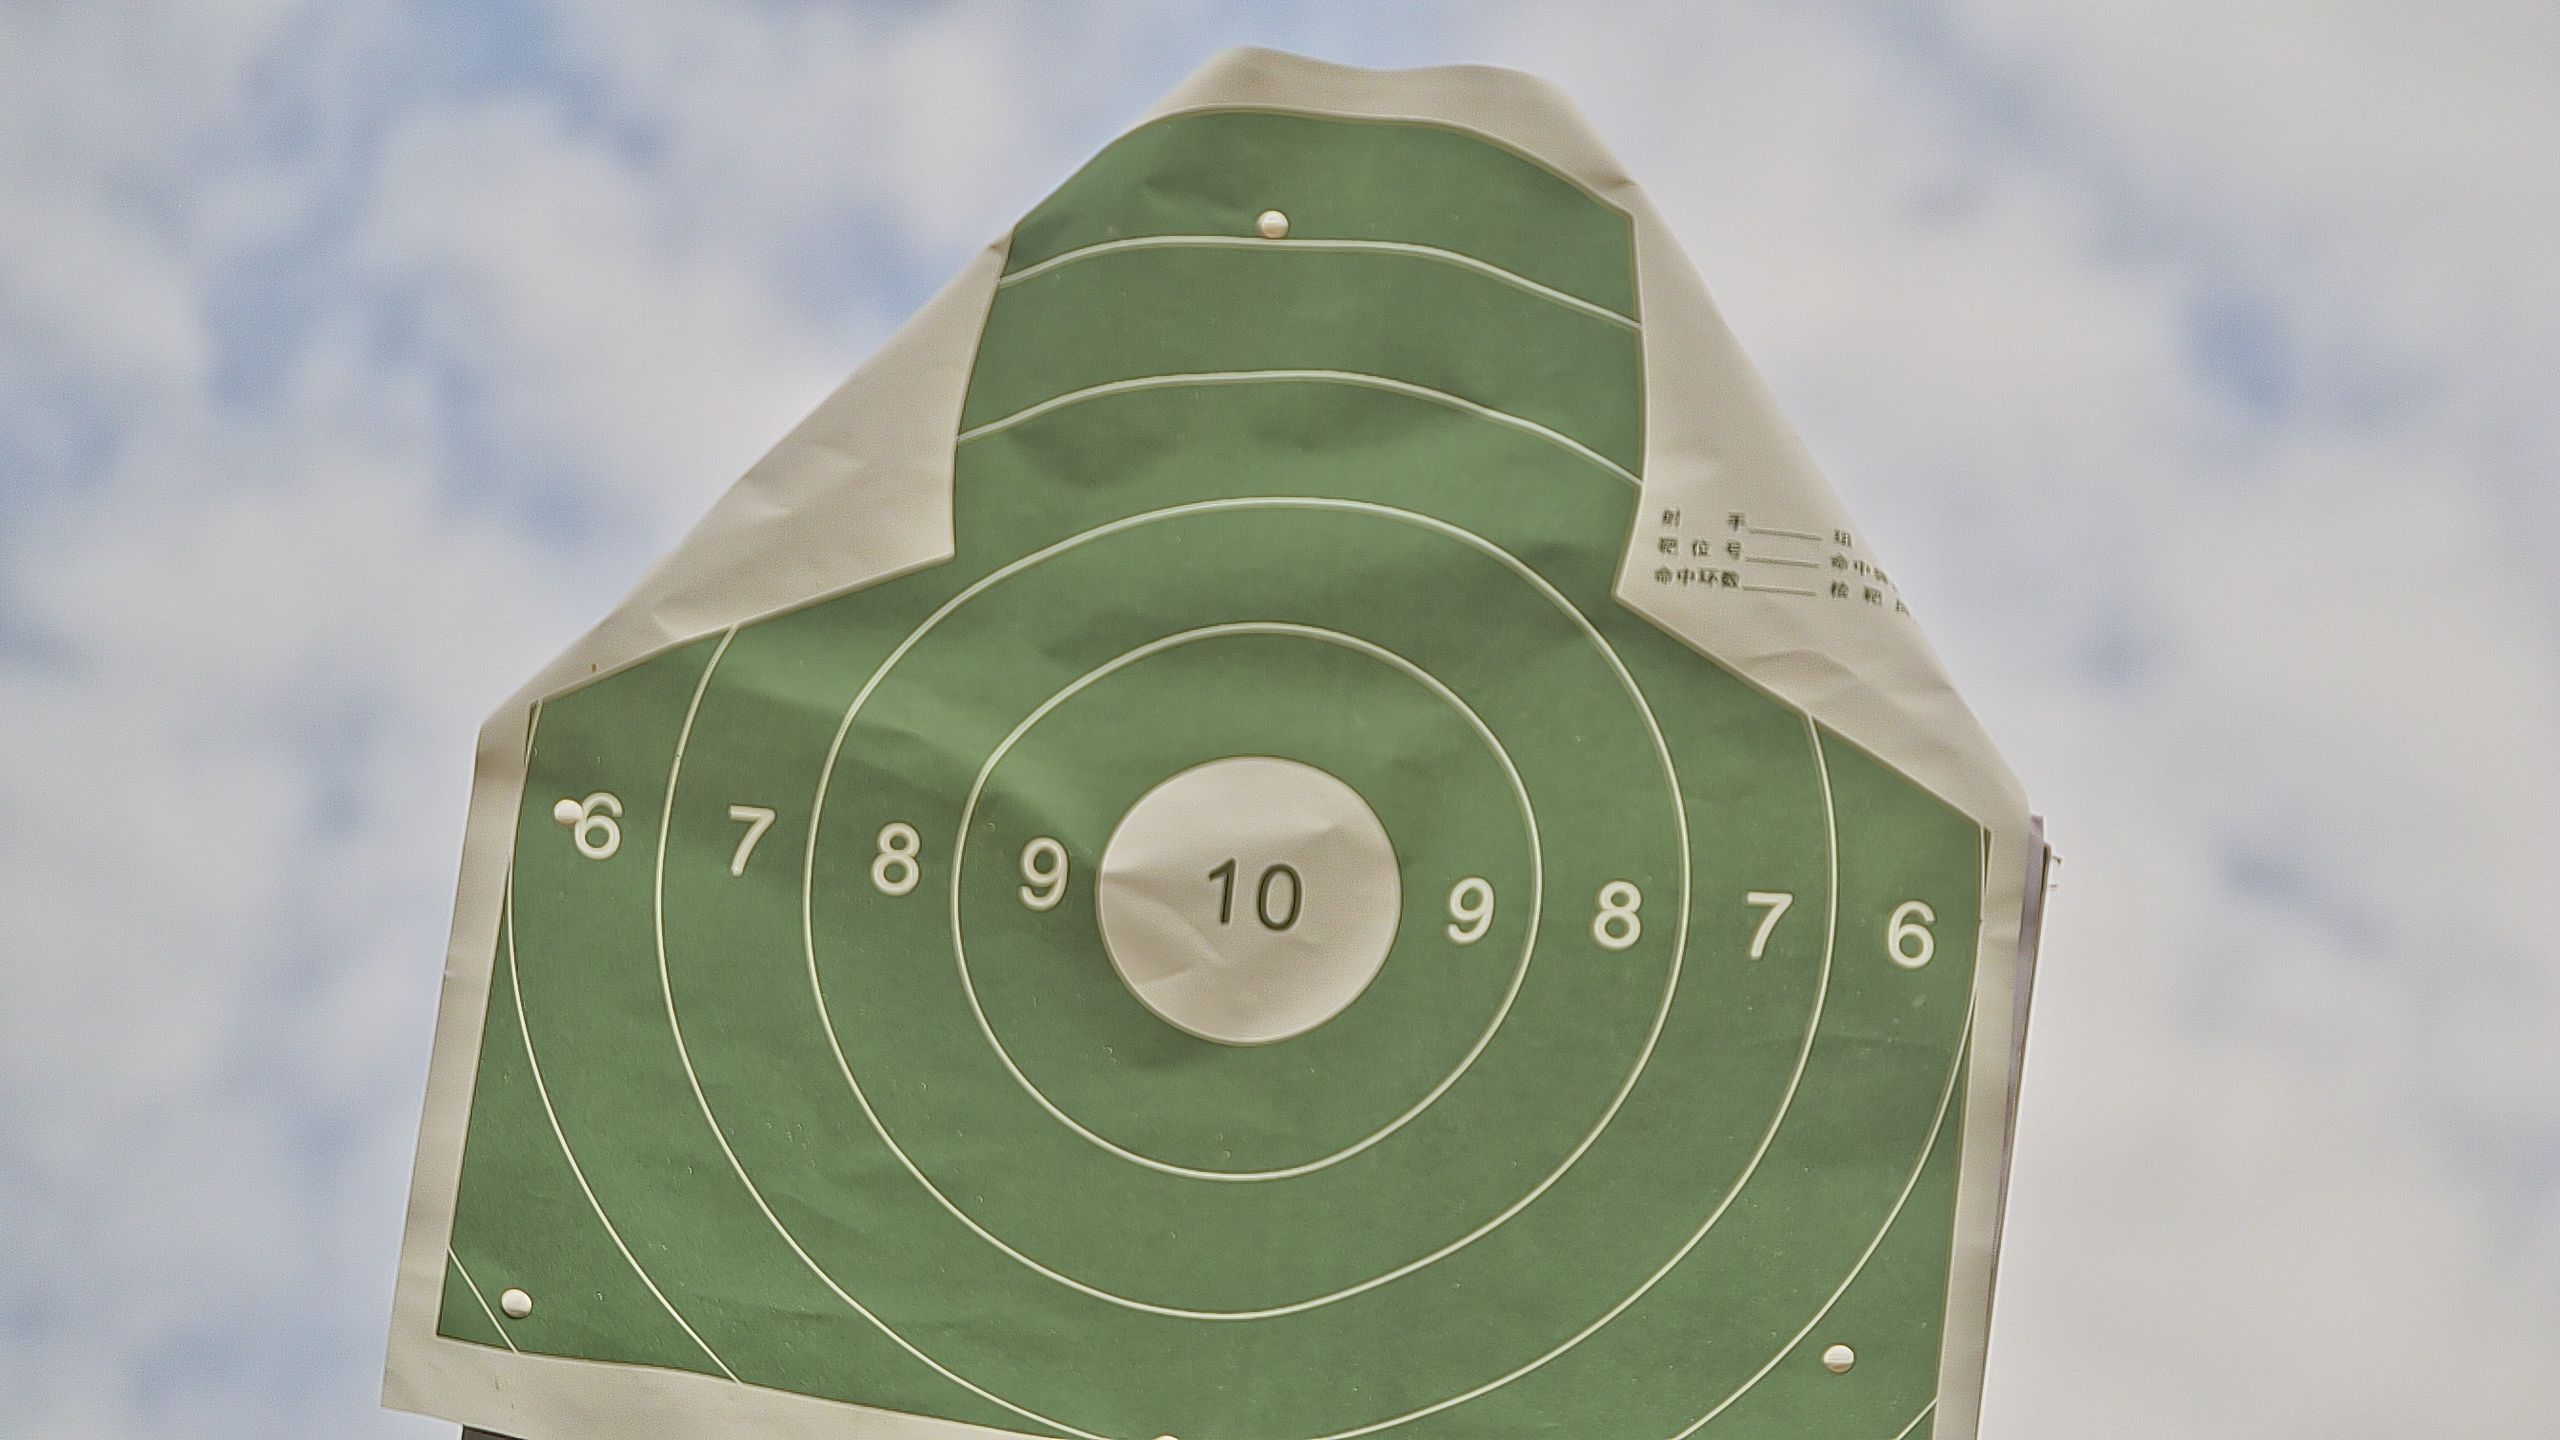kernel: (1245, 893, 1247, 897)
target: (427, 113, 1996, 1440)
ten: (1097, 751, 1403, 1050)
